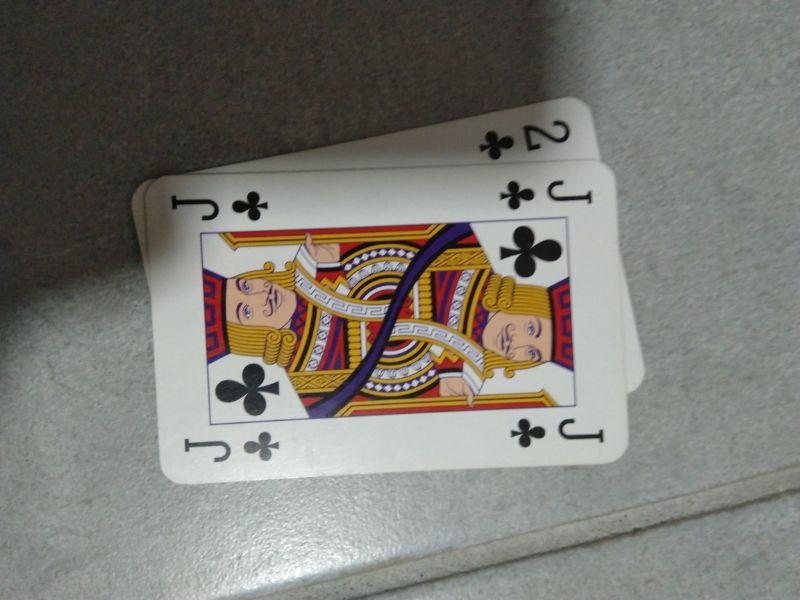2c: (473, 114, 576, 163)
Jc: (180, 426, 285, 469), (167, 186, 275, 225), (508, 412, 610, 453), (496, 174, 598, 213)
